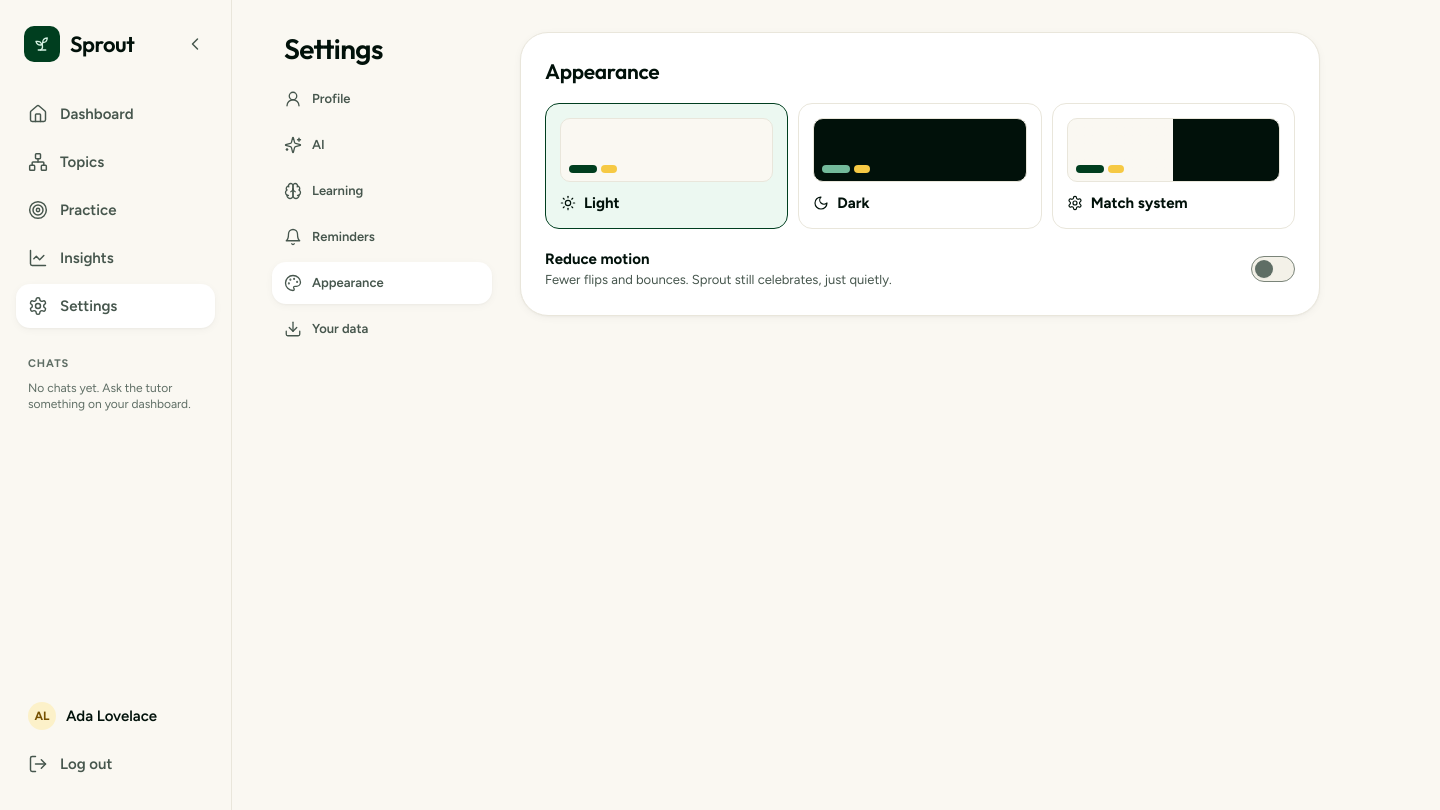
Test: AppearanceSettings › goes back to the old theme when saving fails
Click the button with test id "theme-dark". click: (920, 166)
box: [798,103,1042,229]
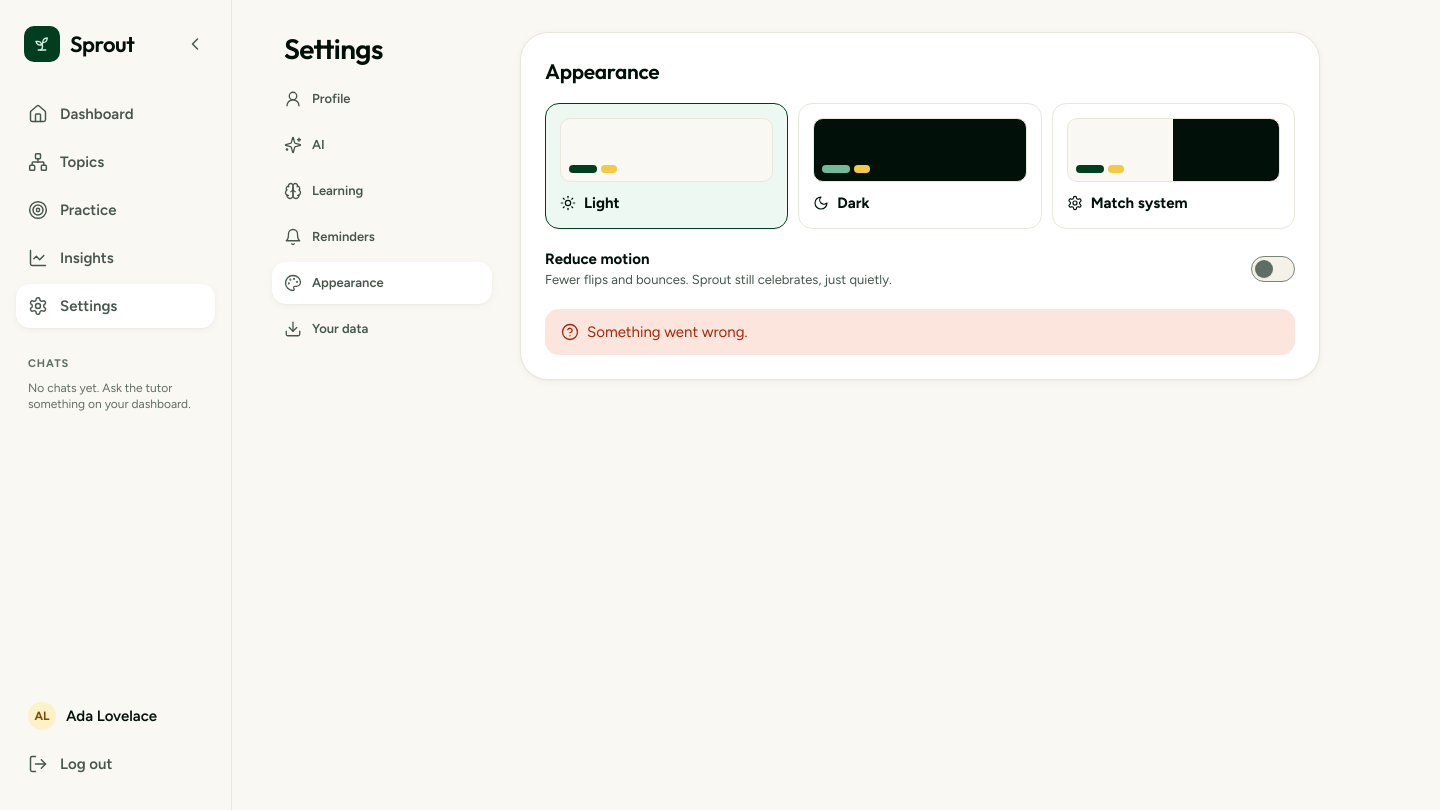
Expected: the message with test id "form-error" reads "Something went wrong.", [587,323,748,341]
